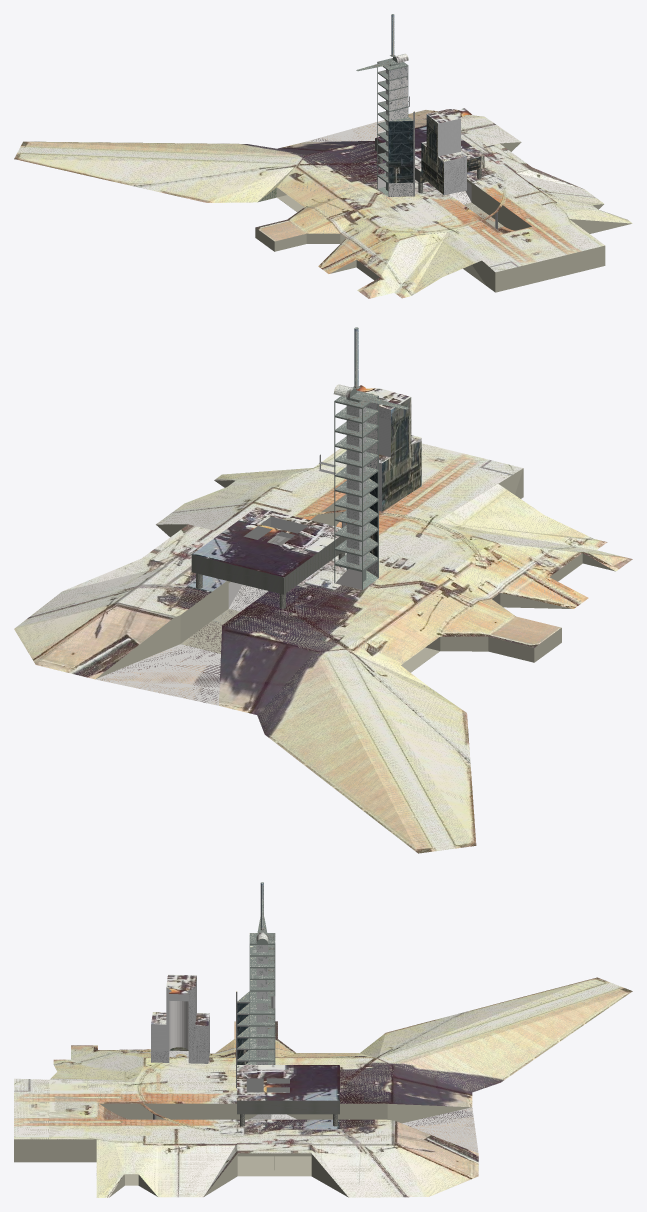
The model's file is STS_LC39A.dae.
3 views of the same model, one above another, from view 1: azimuth 30°, elevation 25°; view 2: azimuth 150°, elevation 25°; view 3: azimuth 270°, elevation 25° (orthographic). The views are drawn at different scales.
Visible parts, largest first — view 1: skp422F (×14); view 2: skp422F (×12); view 3: skp422F (×16).
Part boxes in pixels (left/top/right/bottom): skp422F (×14): left=14, top=61, right=632, bottom=298; skp422F (×12): left=14, top=395, right=632, bottom=853; skp422F (×16): left=14, top=943, right=632, bottom=1197.
Bounding box in the file's own units: 9720 × 11537 × 4576.
Materials: 19 (12 with a texture image).
